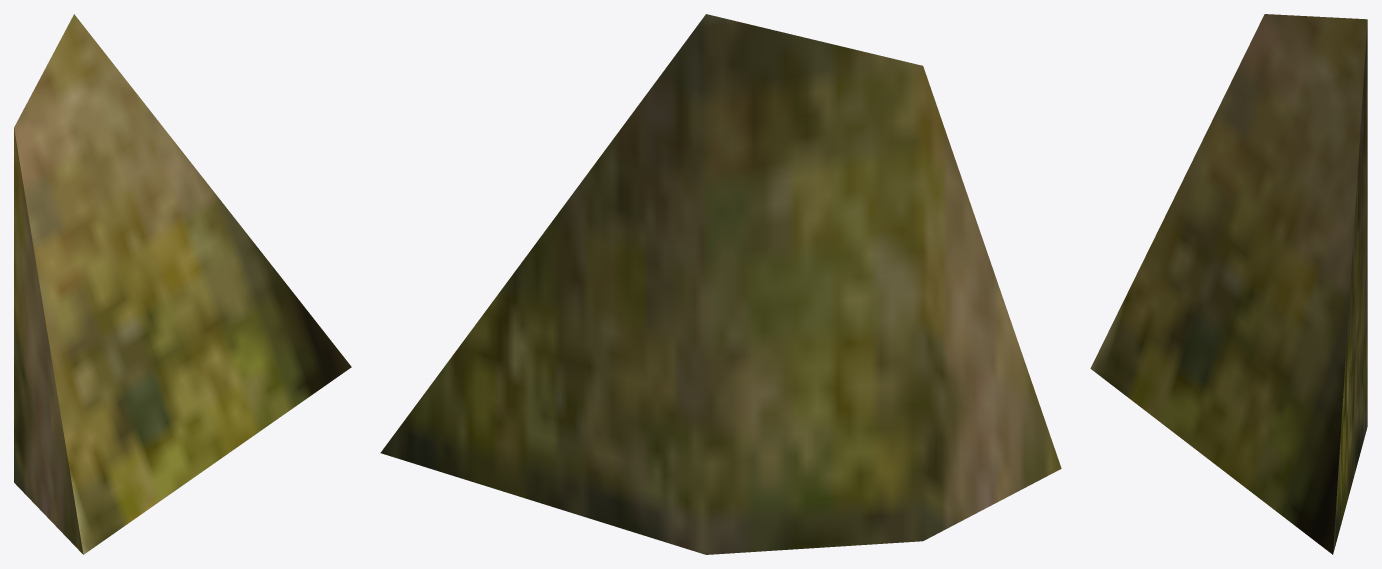
File: OVERHILL_A_01_OBJECT191.fbx
3 renders of one model, left to right at view 1: azimuth 30°, elevation 25°; view 2: azimuth 150°, elevation 25°; view 3: azimuth 270°, elevation 25°, orthographic. The views are drawn at different scales.
Visible parts, largest first — view 1: OVERHILL_A_01_OBJECT191; view 2: OVERHILL_A_01_OBJECT191; view 3: OVERHILL_A_01_OBJECT191.
Boxes of the visible parts, bbox=[...] form: OVERHILL_A_01_OBJECT191: bbox=[14, 14, 351, 554]; OVERHILL_A_01_OBJECT191: bbox=[380, 14, 1061, 554]; OVERHILL_A_01_OBJECT191: bbox=[1090, 14, 1367, 554].
Bounding box in the file's own units: 4766 × 4793 × 2919.
1 material, 1 textured.
